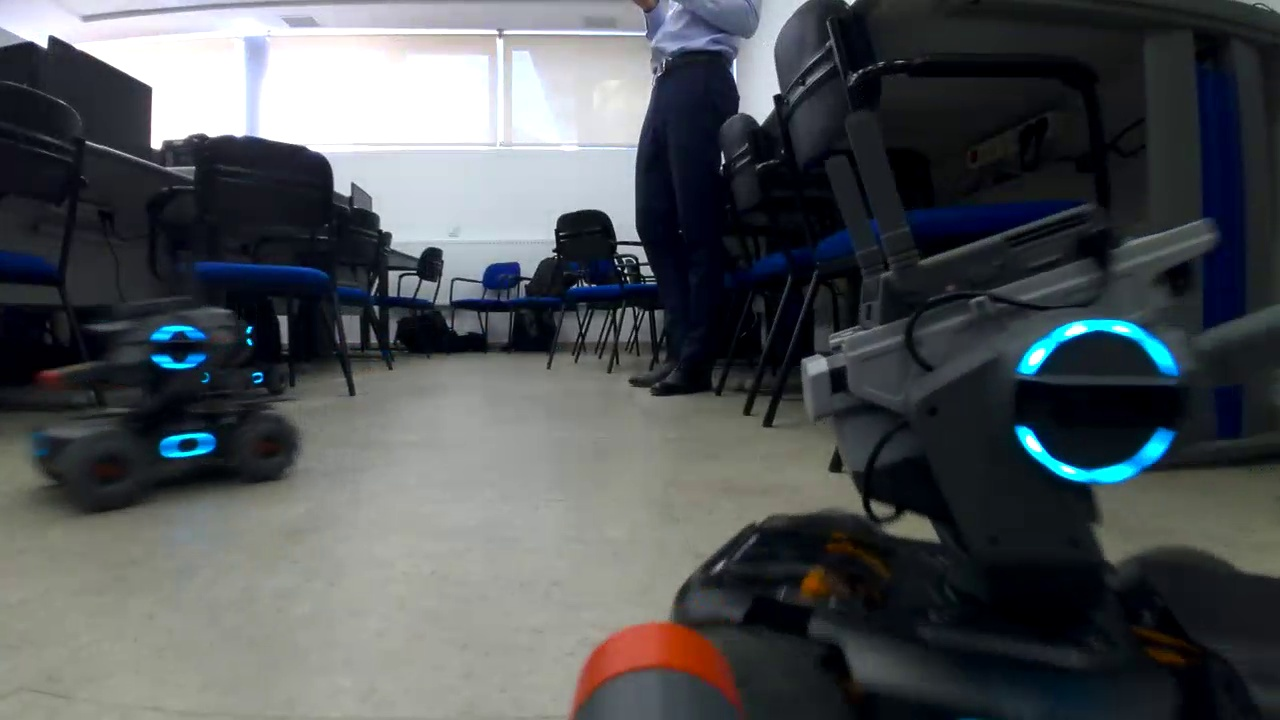robot: (668, 1, 1280, 720), (30, 302, 300, 503), (198, 310, 277, 396)
